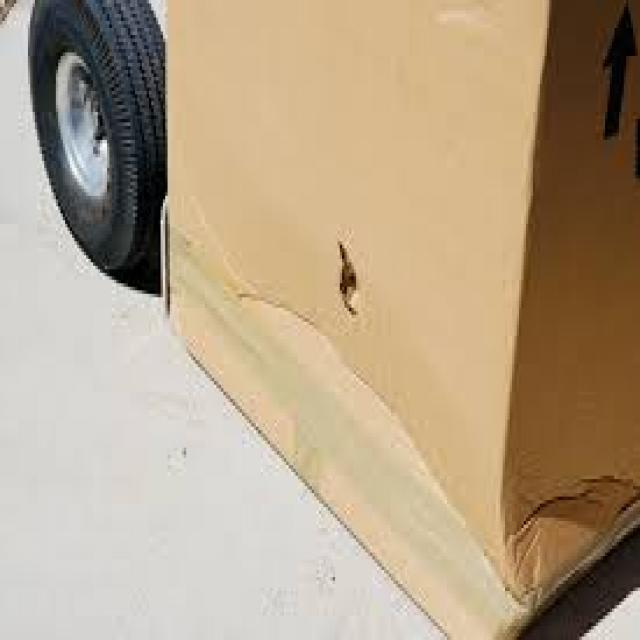hole: (323, 229, 369, 325)
